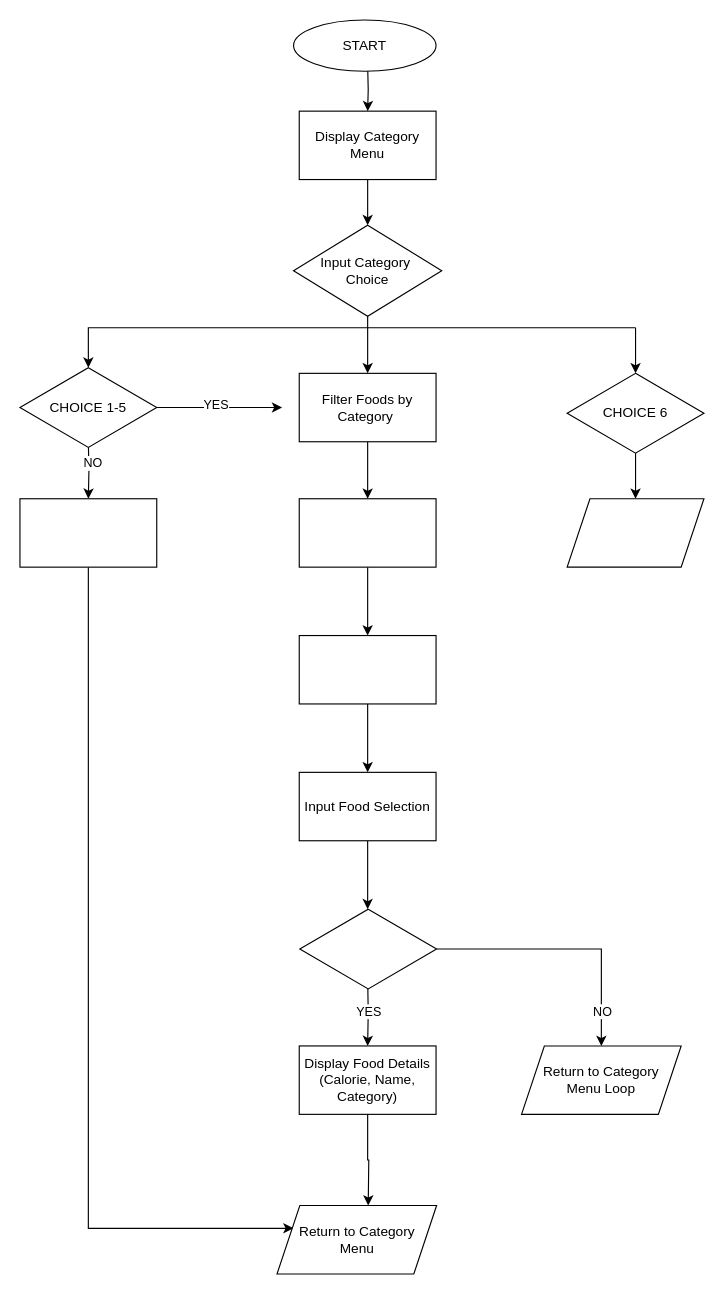
Image size: 724x1294. Some labels were removed from this diagram. Each missing label, with the centre of its shape:
Display Sorted List: (x=367, y=669)
EXIT: (x=635, y=532)
Invalid Choice Print Error: (x=88, y=532)
Selection 0: (x=368, y=948)
Sort Filtered Food Alphabet.: (x=367, y=532)
